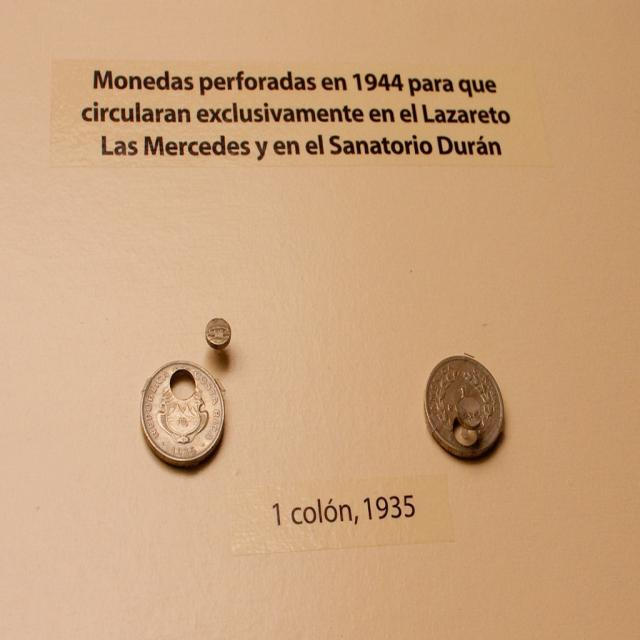Coin: (133, 349, 226, 465), (425, 356, 502, 456)
